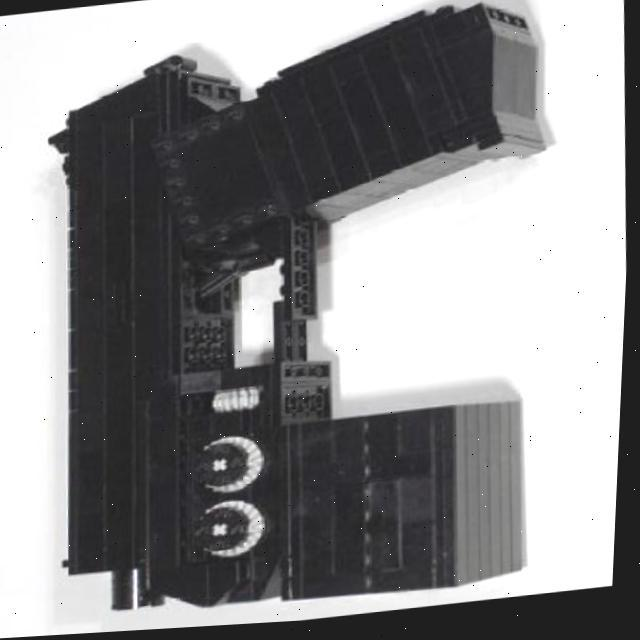gun: (24, 0, 577, 636)
